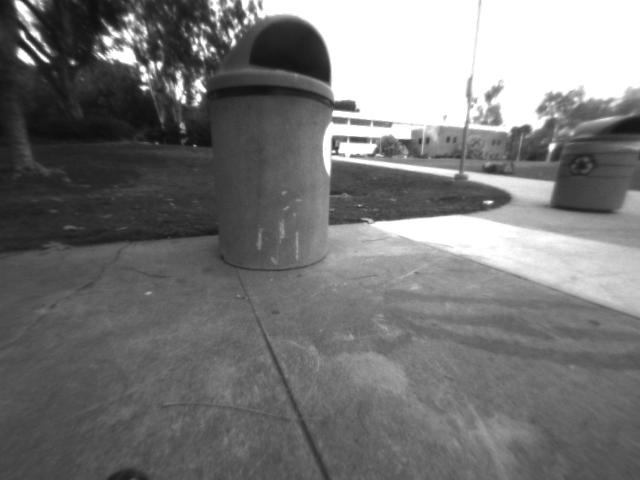trashcan: (192, 4, 358, 276)
